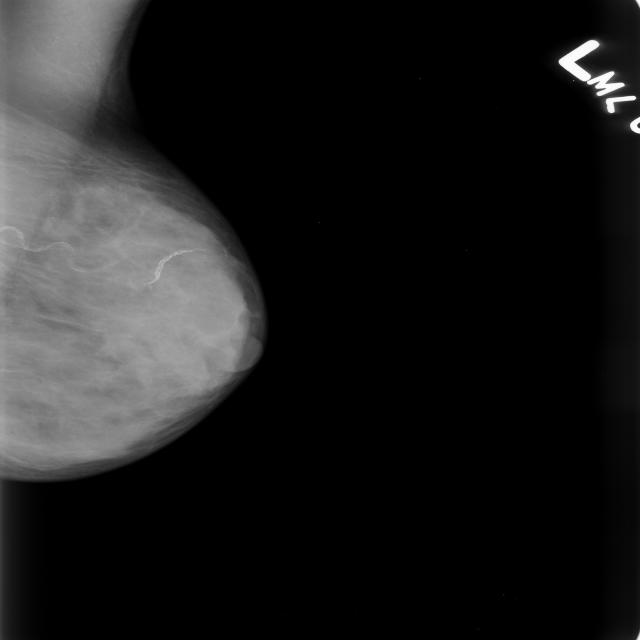normal: (0, 44, 270, 488)
